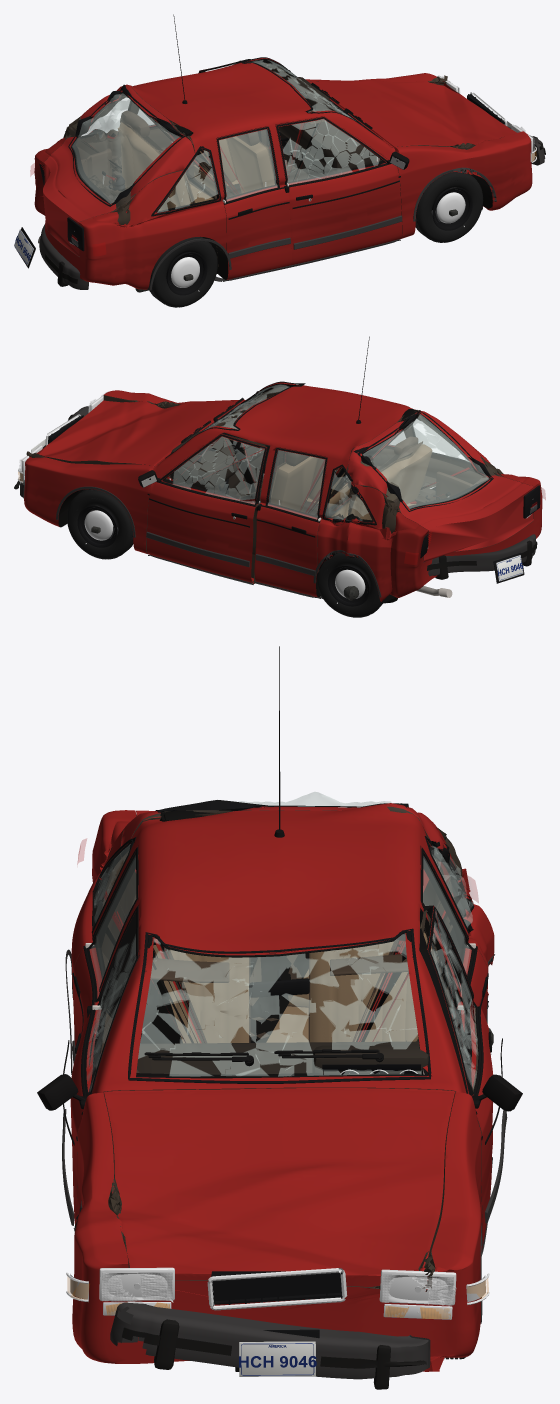
The model's file is hatchback85_rear_corner_d1.glb.
3 renders of one model, top to bottom at view 1: azimuth 30°, elevation 25°; view 2: azimuth 150°, elevation 25°; view 3: azimuth 270°, elevation 25°, orthographic. The views are drawn at different scales.
Parts seen in each view (by area): view 1: Body, Interior, Hood, Door_FR, Glass_Hatch, Hatch, Door_RR, Wheel_FR_mesh, Wheel_RR_mesh, Glass_FR, Glass, Glass_RR (+7 smaller); view 2: Body, Interior, Hatch, Door_FL, Hood, Glass_Hatch, Door_RL, Glass_FL, Wheel_FL_mesh, Glass_RL, Glass, Wheel_RL_mesh (+6 smaller); view 3: Body, Hood, Glass, Interior, Ends, Bumper_F, Door_FL, Trim, Door_FR, Trim_FL, Glass_FL, Trim_FR (+10 smaller).
Boxes of the visible parts, x1,y1,x2,y2 form: Body: [34, 58, 532, 289]; Interior: [81, 77, 376, 210]; Hood: [308, 80, 516, 148]; Door_FR: [275, 116, 402, 265]; Glass_Hatch: [68, 84, 184, 206]; Hatch: [43, 84, 195, 256]; Door_RR: [216, 126, 291, 279]; Wheel_FR_mesh: [415, 172, 483, 242]; Wheel_RR_mesh: [148, 236, 217, 307]; Glass_FR: [275, 117, 385, 185]; Glass: [88, 57, 382, 214]; Glass_RR: [216, 129, 279, 201]; Body: [24, 382, 542, 603]; Interior: [170, 389, 472, 520]; Hatch: [347, 409, 534, 561]; Door_FL: [146, 432, 269, 583]; Hood: [36, 400, 241, 466]; Glass_Hatch: [353, 410, 493, 511]; Door_RL: [254, 447, 327, 597]; Glass_FL: [163, 433, 267, 505]; Wheel_FL_mesh: [67, 489, 133, 559]; Glass_RL: [265, 450, 327, 519]; Glass: [165, 381, 470, 524]; Wheel_RL_mesh: [317, 552, 382, 617]; Body: [71, 803, 494, 1371]; Hood: [103, 1088, 455, 1286]; Glass: [94, 838, 474, 1083]; Interior: [130, 894, 434, 1074]; Ends: [66, 1267, 489, 1376]; Bumper_F: [110, 1302, 430, 1389]; Door_FL: [419, 905, 493, 1248]; Trim: [65, 646, 494, 1323]; Door_FR: [70, 905, 139, 1224]; Trim_FL: [428, 906, 522, 1255]; Glass_FL: [426, 906, 477, 1088]; Trim_FR: [37, 906, 138, 1225].
Bounding box in the file's own units: 4.4 × 2.14 × 1.93.
33 materials, 5 textured.
